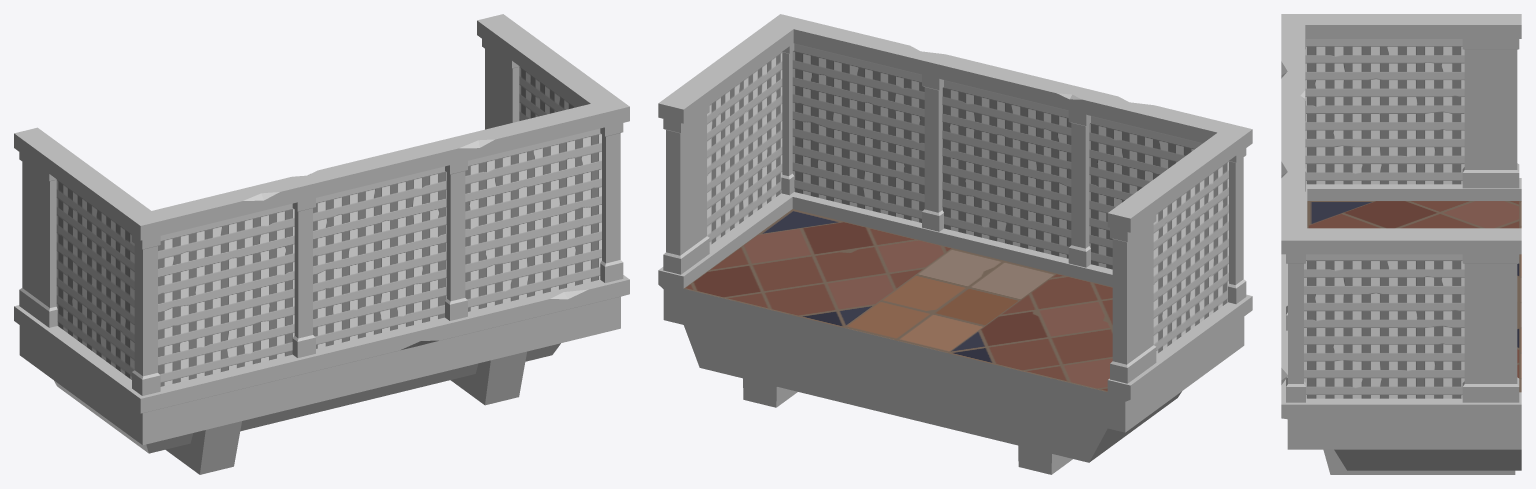
Rendered from SM_Bld_Balcony_01.fbx.
3 views of the same model, side by side, from view 1: azimuth 30°, elevation 25°; view 2: azimuth 150°, elevation 25°; view 3: azimuth 270°, elevation 25° (orthographic). The views are drawn at different scales.
Parts seen in each view (by area): view 1: SM_Bld_Balcony_01; view 2: SM_Bld_Balcony_01; view 3: SM_Bld_Balcony_01.
Boxes of the visible parts, x1,y1,x2,y2 form: SM_Bld_Balcony_01: [14, 14, 629, 474]; SM_Bld_Balcony_01: [658, 14, 1252, 474]; SM_Bld_Balcony_01: [1281, 14, 1521, 474].
Size of the model in its own units: 241 by 136 by 108.
